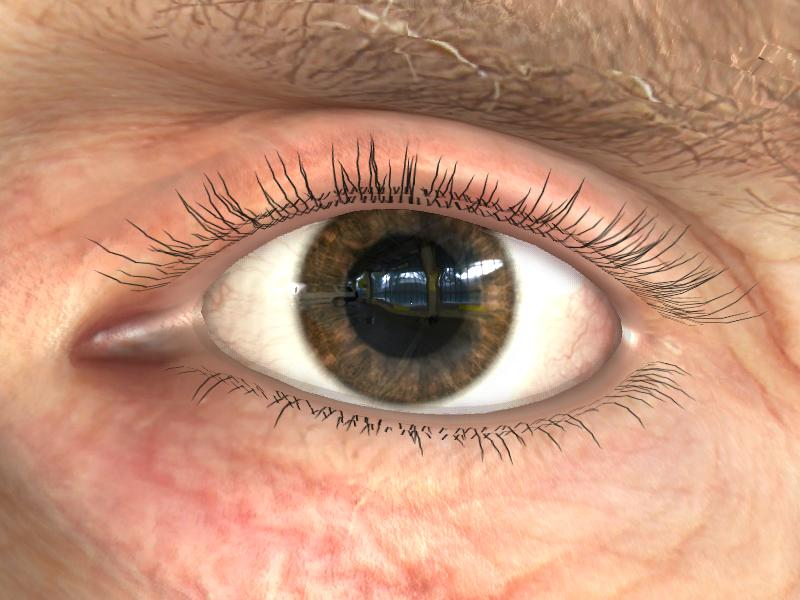eye: (294, 210, 515, 407)
